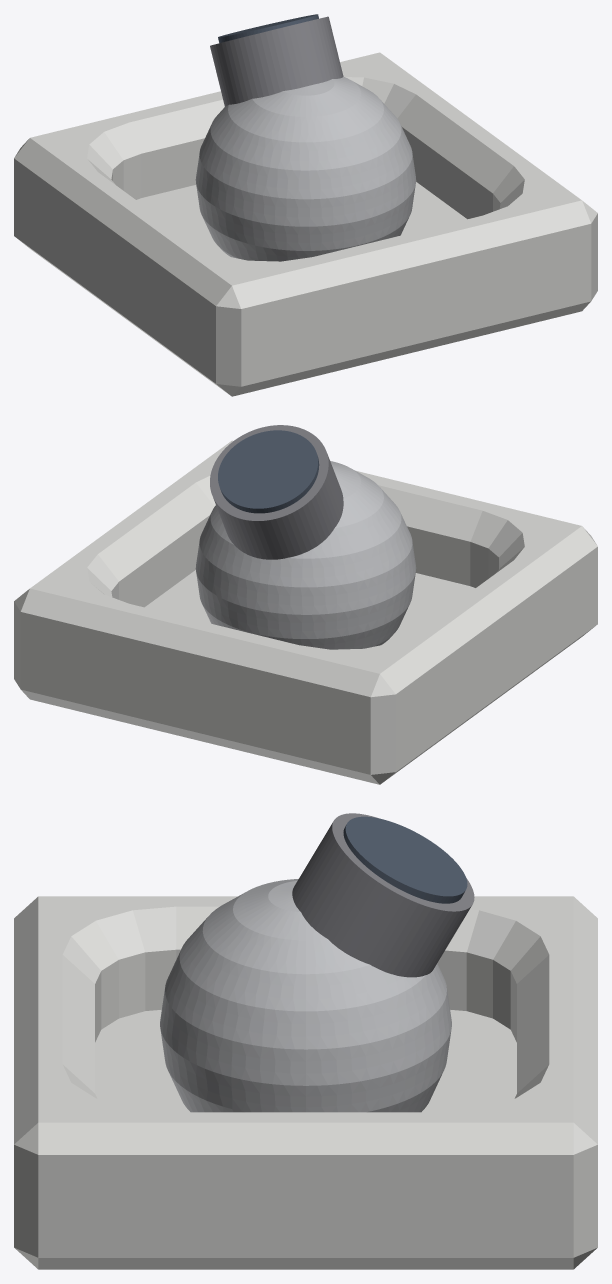
Rendered from ax_power_17_optical_terminal.glb.
3 renders of one model, top to bottom at view 1: azimuth 30°, elevation 25°; view 2: azimuth 150°, elevation 25°; view 3: azimuth 270°, elevation 25°, orthographic. The views are drawn at different scales.
Visible parts, largest first — view 1: terminal_pocket, gimbal_ball, telescope, aperture_glass; view 2: terminal_pocket, gimbal_ball, telescope, aperture_glass; view 3: terminal_pocket, gimbal_ball, telescope, aperture_glass.
Part boxes in pixels (left/top/right/bottom): terminal_pocket: left=14, top=52, right=597, bottom=396; gimbal_ball: left=195, top=76, right=416, bottom=261; telescope: left=210, top=16, right=343, bottom=106; aperture_glass: left=218, top=14, right=318, bottom=43; terminal_pocket: left=14, top=440, right=597, bottom=784; gimbal_ball: left=195, top=461, right=416, bottom=649; telescope: left=210, top=425, right=343, bottom=559; aperture_glass: left=218, top=430, right=319, bottom=513; terminal_pocket: left=14, top=896, right=597, bottom=1269; gimbal_ball: left=160, top=879, right=451, bottom=1112; telescope: left=292, top=813, right=474, bottom=977; aperture_glass: left=343, top=816, right=467, bottom=903.
Bounding box in the file's own units: 0.36 × 0.2239 × 0.36.
